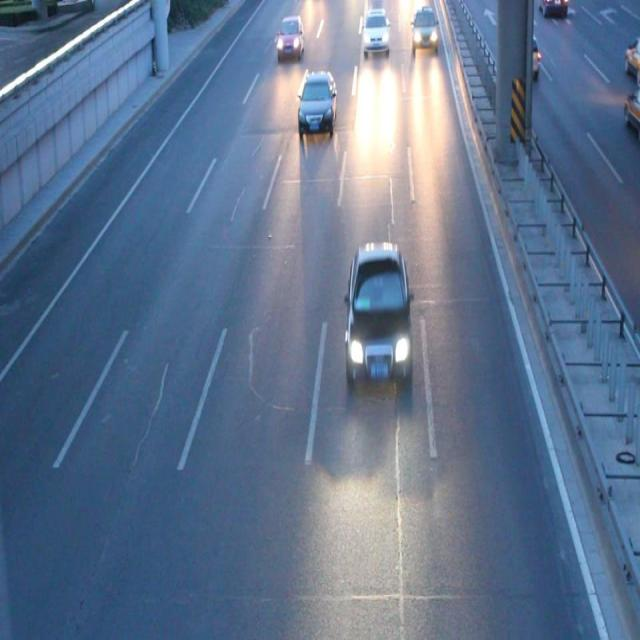car: (347, 245, 411, 386), (297, 71, 335, 129), (506, 29, 539, 68), (362, 9, 388, 51), (278, 18, 304, 54), (411, 11, 436, 47), (623, 35, 640, 80), (622, 91, 640, 133), (537, 2, 565, 15)
